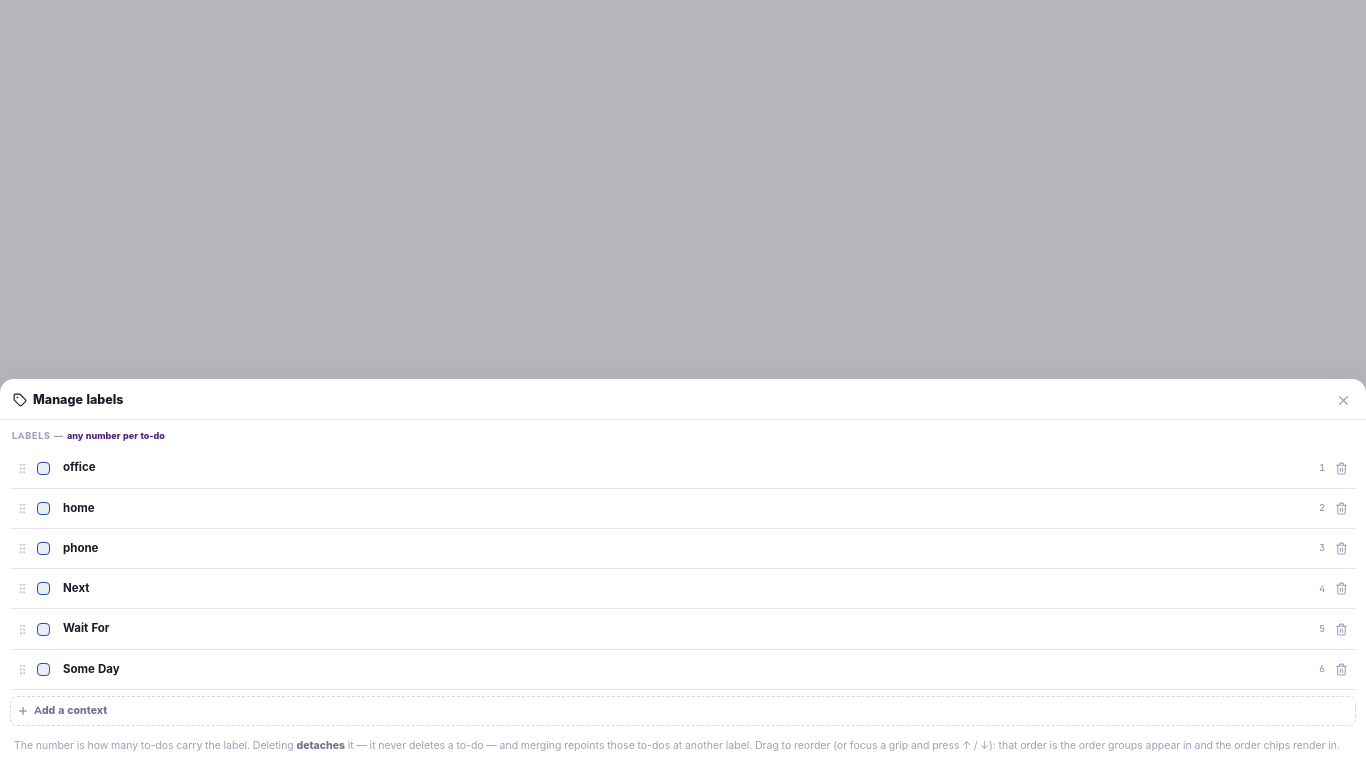
Test: delete and merge › the confirm names the detach count and says the to-dos survive
Click the button named "Delete or merge @office" at coordinates (1342, 468), box [1331,458,1352,479]
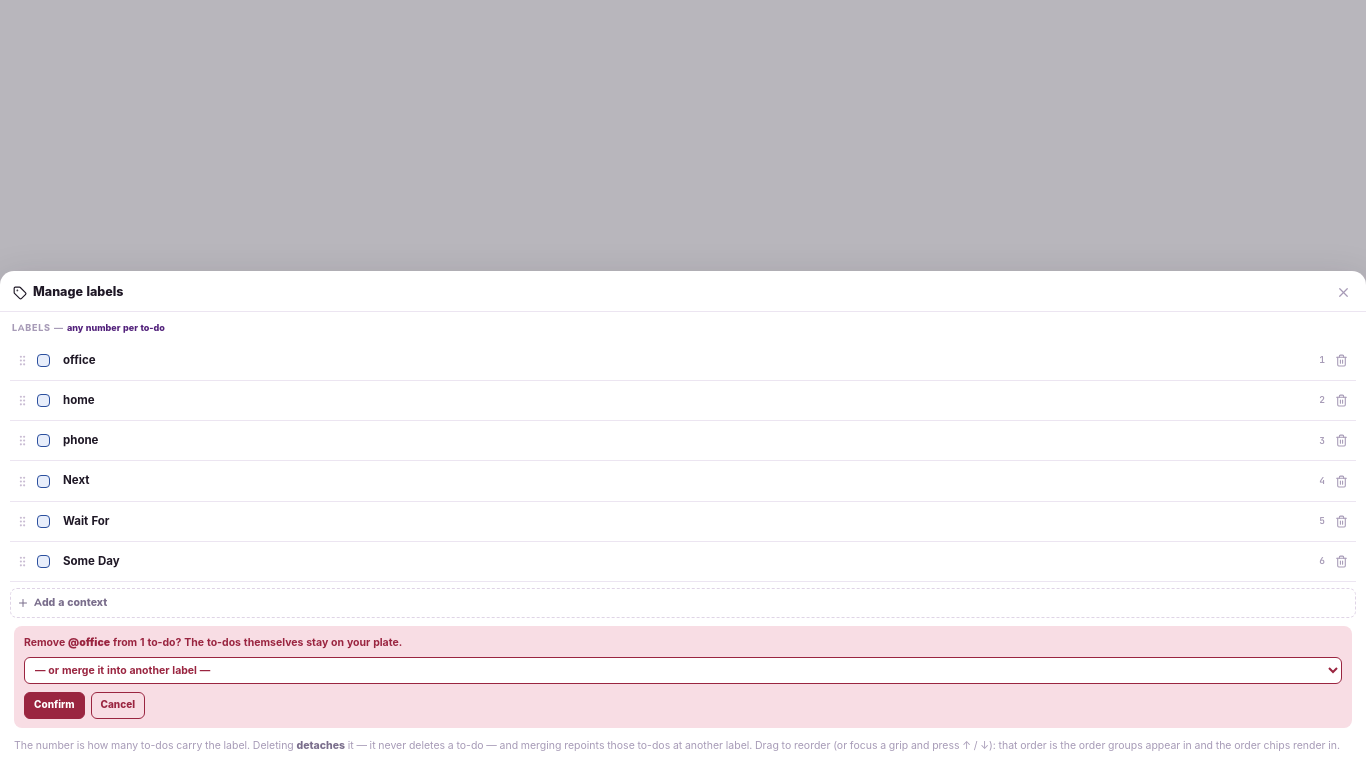
Expected: the dialog shows "1 to-do", [14,626,1352,728]
Expected: the dialog shows "stay on your plate", [176,635,402,650]
